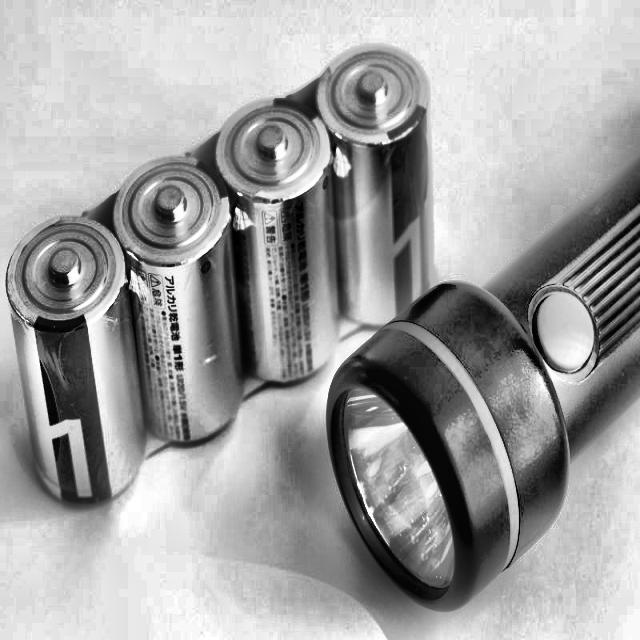drycell: (6, 217, 144, 504), (112, 156, 242, 443), (214, 97, 338, 383), (316, 45, 430, 326)
